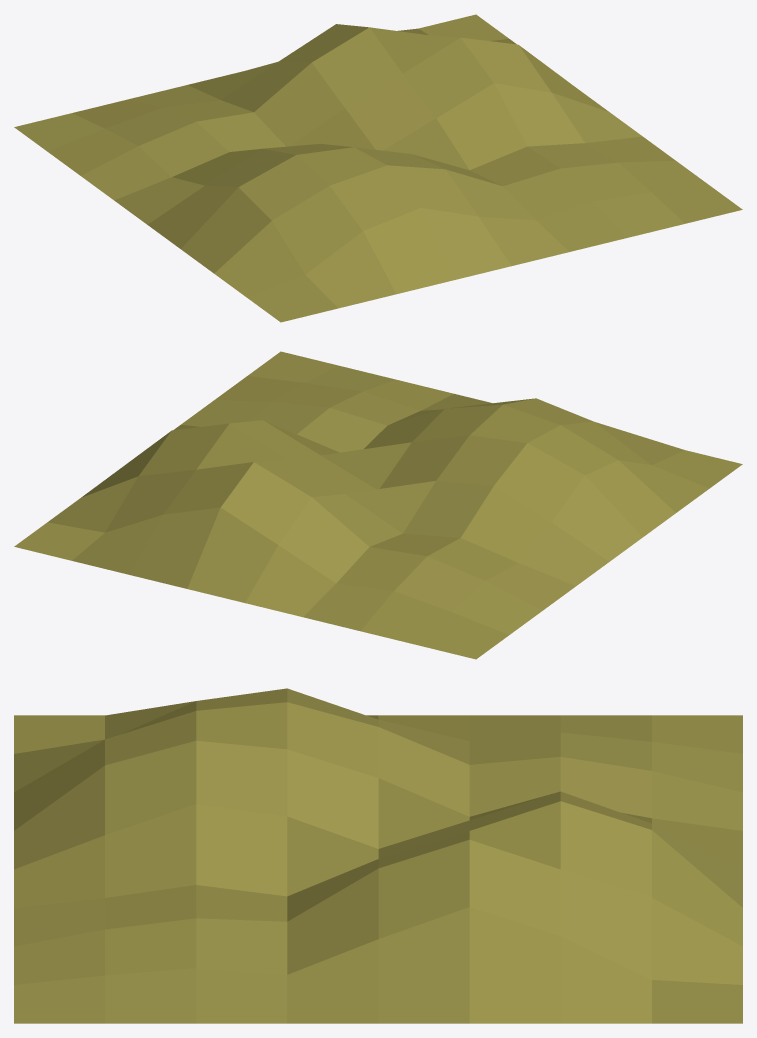
Rendered from Terrain_19_Yellow.fbx.
3 renders of one model, top to bottom at view 1: azimuth 30°, elevation 25°; view 2: azimuth 150°, elevation 25°; view 3: azimuth 270°, elevation 25°, orthographic. The views are drawn at different scales.
Visible parts, largest first — view 1: Terrain_19_Yellow; view 2: Terrain_19_Yellow; view 3: Terrain_19_Yellow.
Part boxes in pixels (bbox=[...]): Terrain_19_Yellow: bbox=[14, 14, 742, 322]; Terrain_19_Yellow: bbox=[14, 351, 742, 659]; Terrain_19_Yellow: bbox=[14, 688, 742, 1023].
Bounding box in the file's own units: 8000 × 1294 × 8000.
